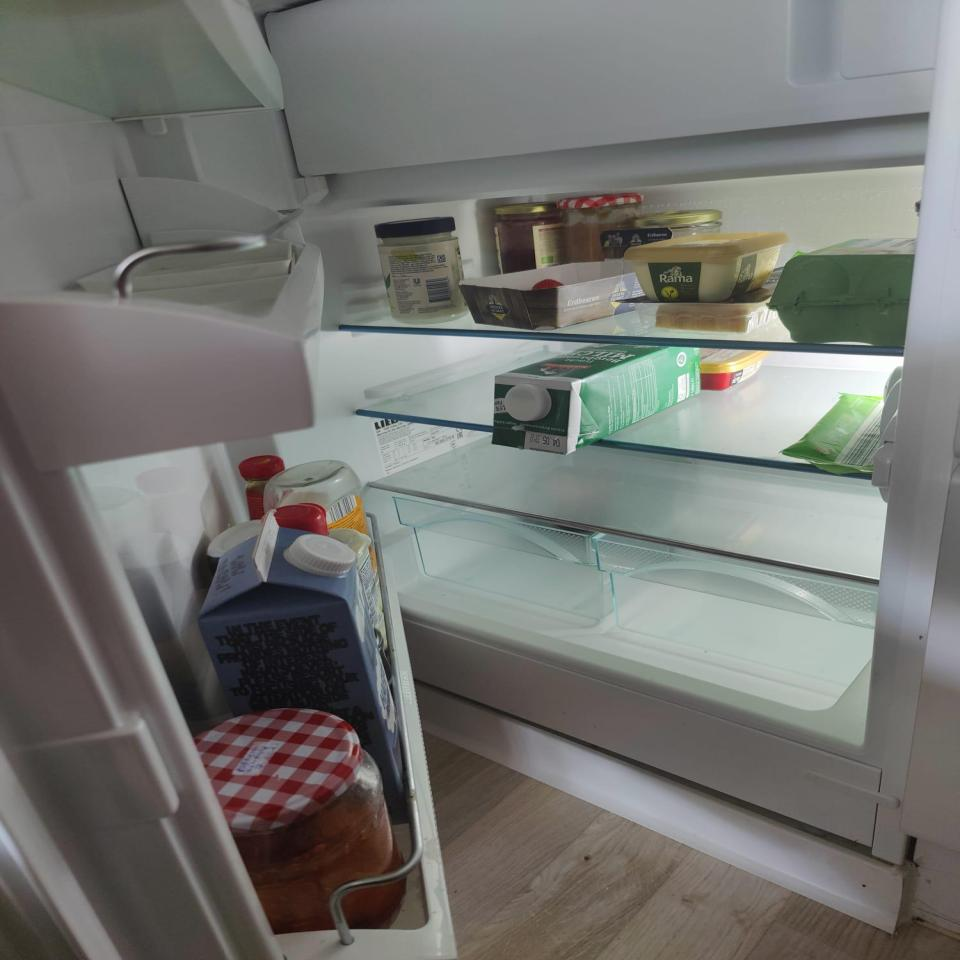Huevos: (775, 239, 919, 344)
Leche: (198, 509, 419, 825)
Mantequilla: (630, 232, 785, 298)
